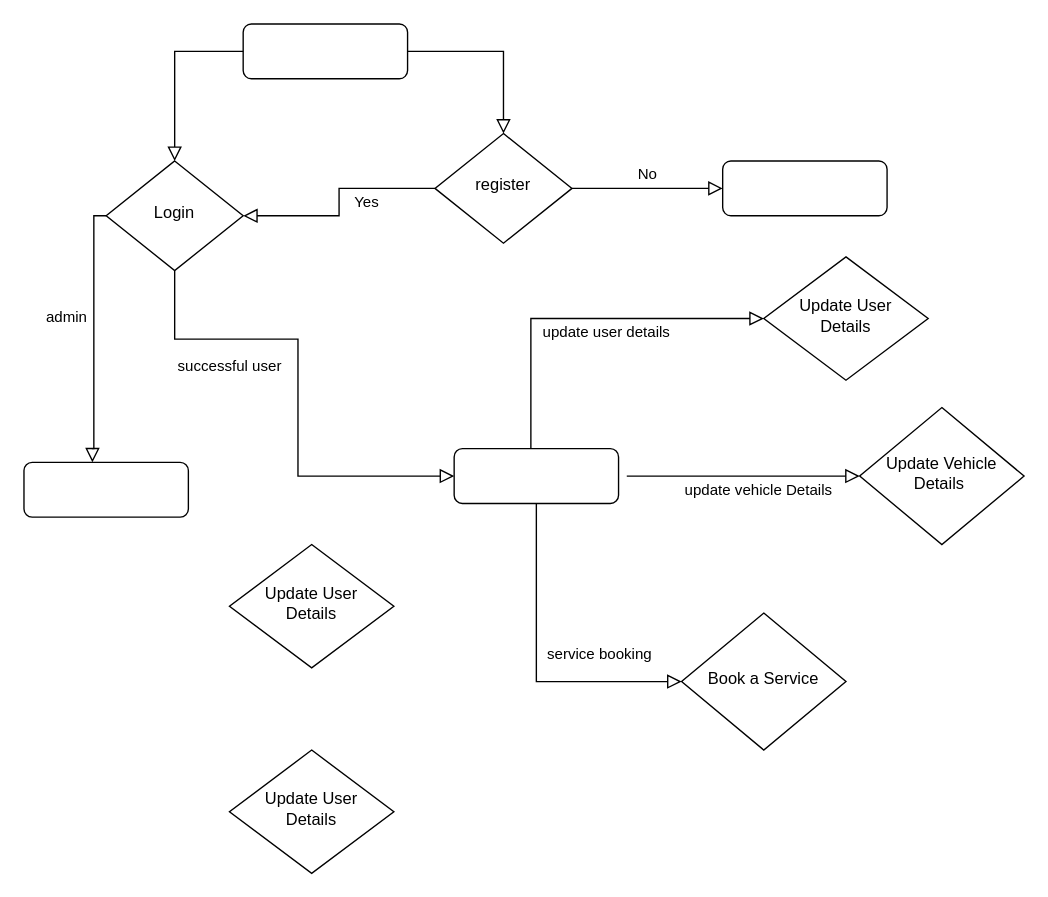
Some shapes in this 1048 by 897 pixel diagram are drawn without their labels. The shapes that lost their labels are listed below. From the top down, each one's centre as x and y in pixels, then its label:
At point (325, 51): "user".
At point (804, 188): "Log errors".
At point (105, 489): "Admin Page".
At point (536, 475): "User Page".
